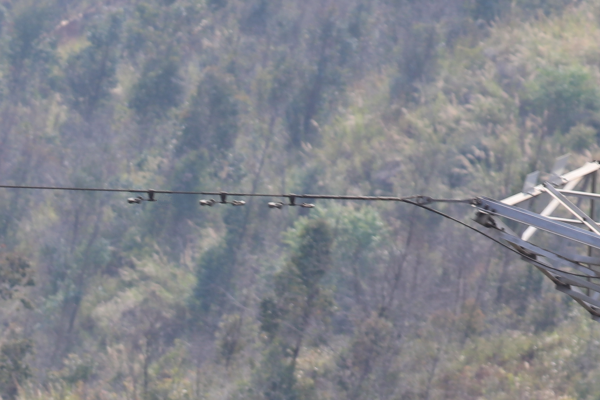damper: (196, 189, 247, 208)
damper_defect: (266, 191, 316, 209), (124, 187, 159, 206)
